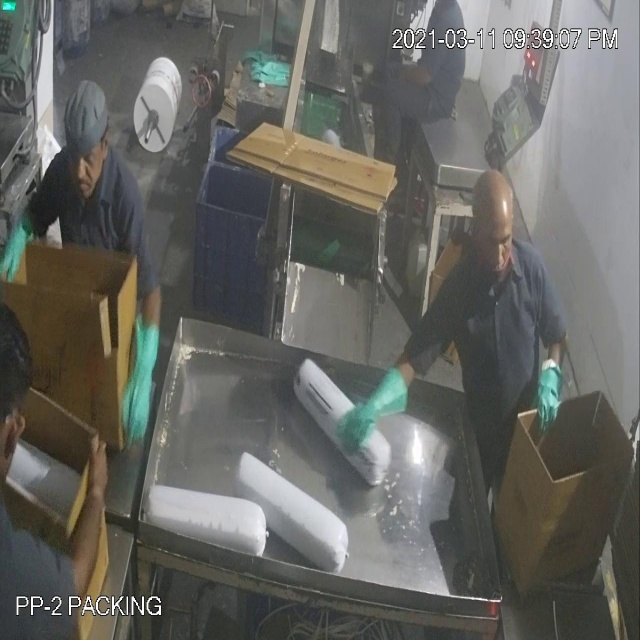Guantes: (329, 364, 408, 467), (529, 348, 577, 445)
Sin_guantes: (389, 52, 435, 91)
